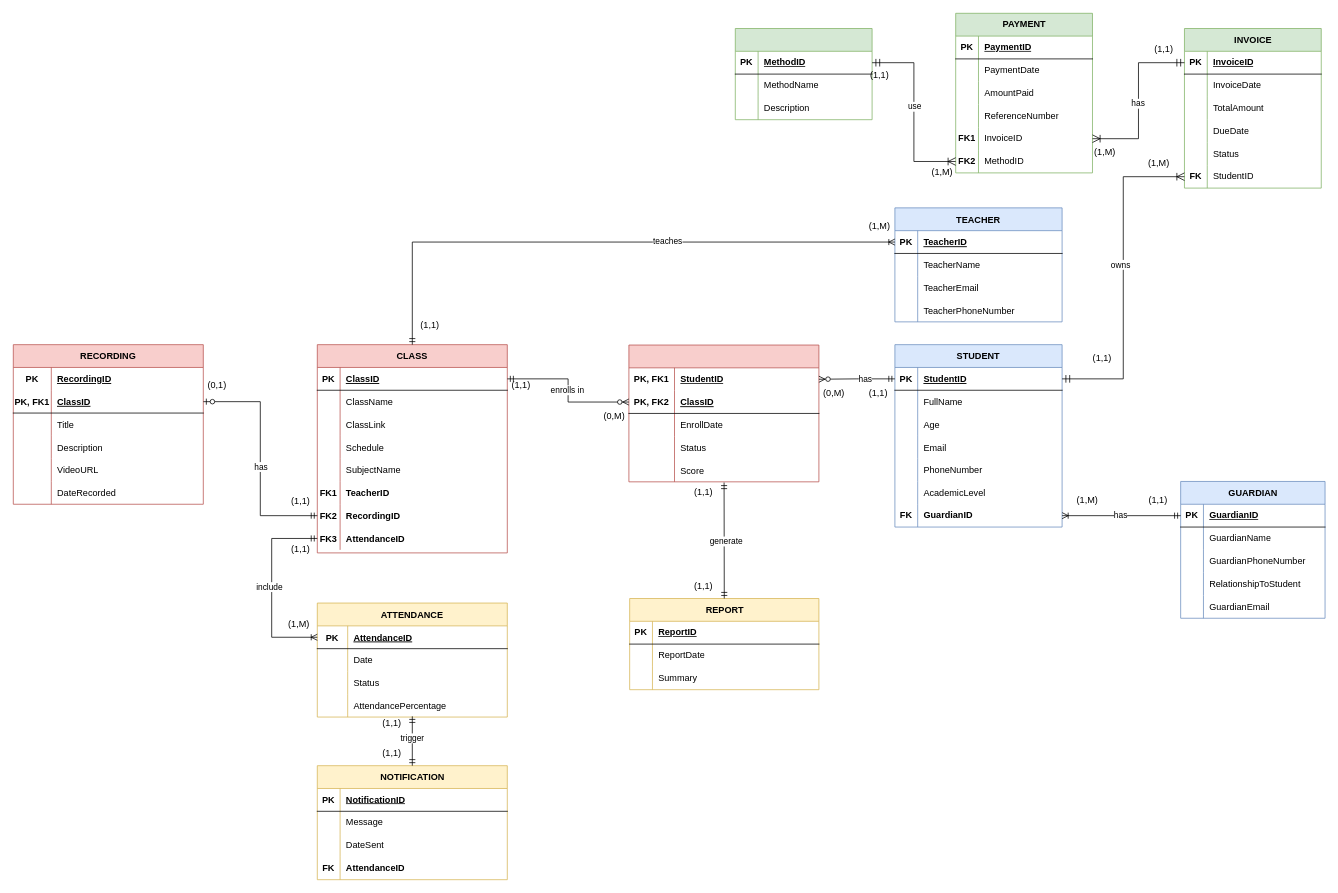
Image size: 1338x893. Some labels were removed from this diagram. The shapes that lost their labels are listed below. From the top down, each one's box as (x1, y1, x2, y2) in pixels, then its label:
(735, 28, 872, 120): PAYMENT_METHOD
(628, 344, 819, 482): ENROLLMENT
